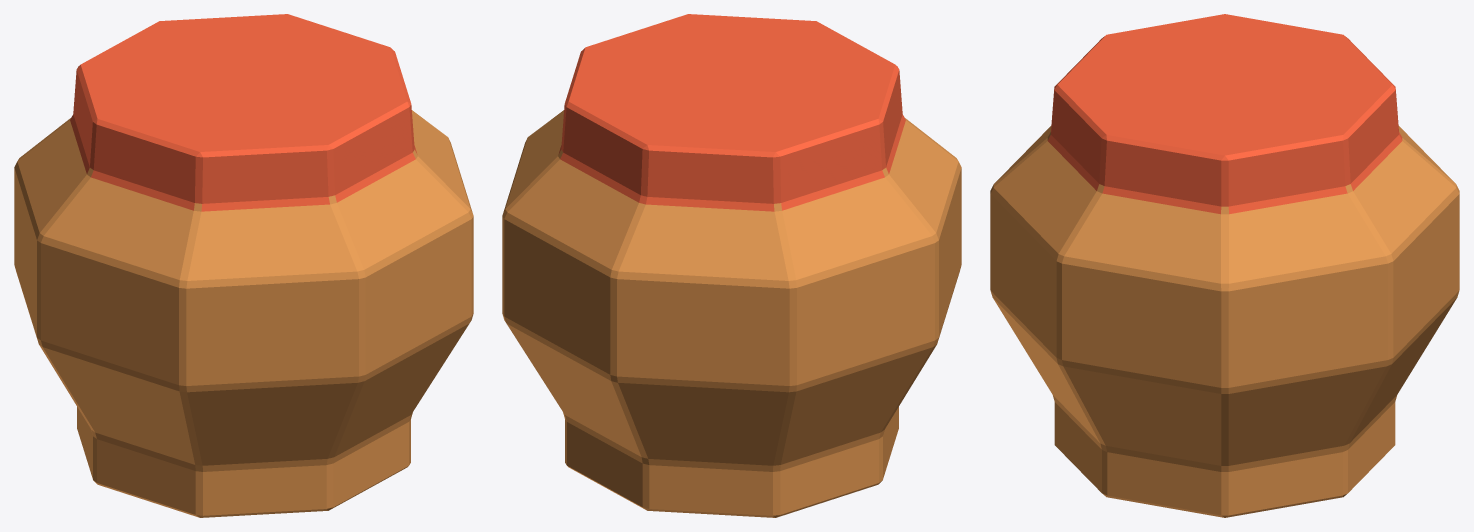
File: Vase 1.fbx
3 views of the same model, side by side, from view 1: azimuth 30°, elevation 25°; view 2: azimuth 150°, elevation 25°; view 3: azimuth 270°, elevation 25° (orthographic).
Parts seen in each view (by area): view 1: Vase 1; view 2: Vase 1; view 3: Vase 1.
Boxes of the visible parts, bbox=[...] form: Vase 1: bbox=[14, 14, 473, 517]; Vase 1: bbox=[502, 14, 961, 517]; Vase 1: bbox=[990, 14, 1459, 517].
Bounding box in the file's own units: 115 × 98.18 × 115.
